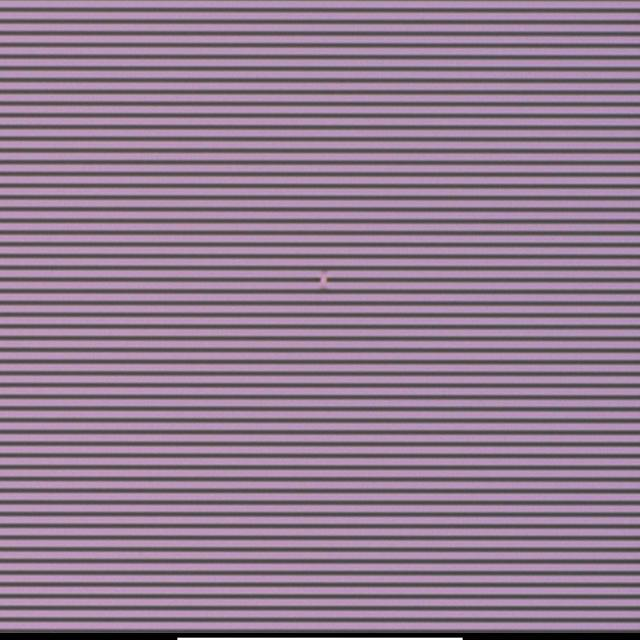03_intrusion: (315, 268, 333, 295)
